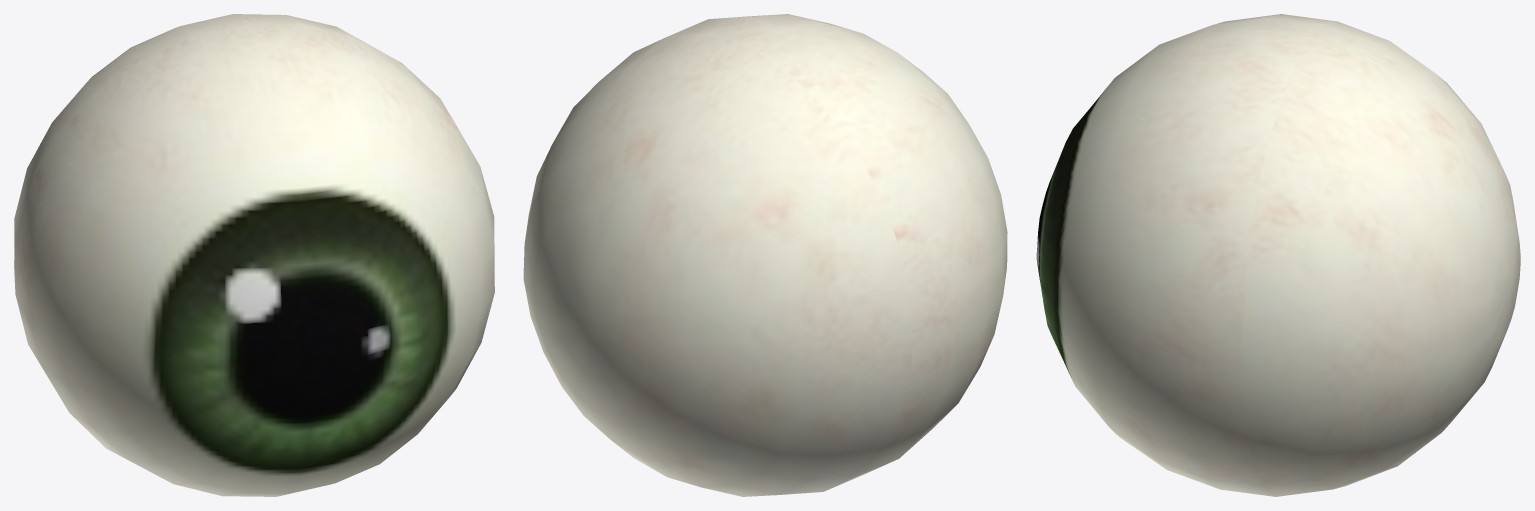
File: qie_eye_right.fbx
3 views of the same model, side by side, from view 1: azimuth 30°, elevation 25°; view 2: azimuth 150°, elevation 25°; view 3: azimuth 270°, elevation 25° (orthographic).
Visible parts, largest first — view 1: 5; view 2: 5; view 3: 5.
Boxes of the visible parts, left/top/right/bottom form: 5: left=14, top=14, right=494, bottom=496; 5: left=523, top=14, right=1007, bottom=496; 5: left=1036, top=14, right=1520, bottom=496.
Size of the model in its own units: 0.0605 by 0.0606 by 0.0611.
